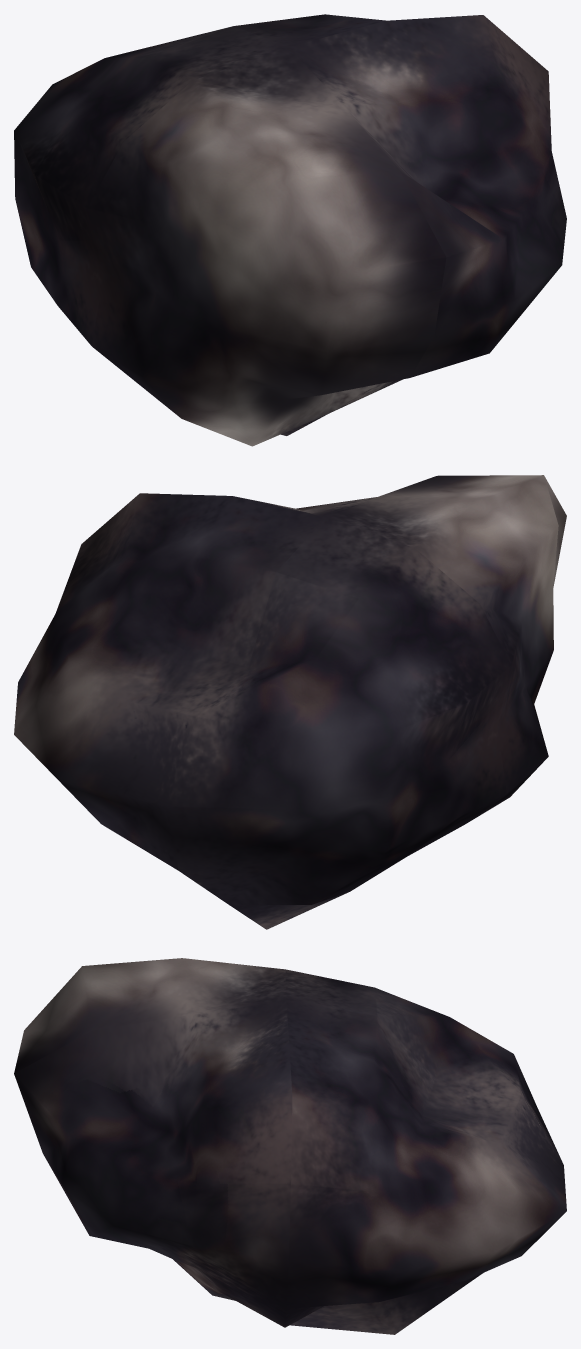
File: asteroid2.FBX
3 views of the same model, one above another, from view 1: azimuth 30°, elevation 25°; view 2: azimuth 150°, elevation 25°; view 3: azimuth 270°, elevation 25° (orthographic). The views are drawn at different scales.
Parts seen in each view (by area): view 1: Default; view 2: Default; view 3: Default.
Boxes of the visible parts, bbox=[...] form: Default: bbox=[14, 14, 566, 446]; Default: bbox=[14, 475, 566, 929]; Default: bbox=[14, 958, 566, 1334].
Size of the model in its own units: 0.8675 by 0.7094 by 1.06.
1 material, 1 textured.
